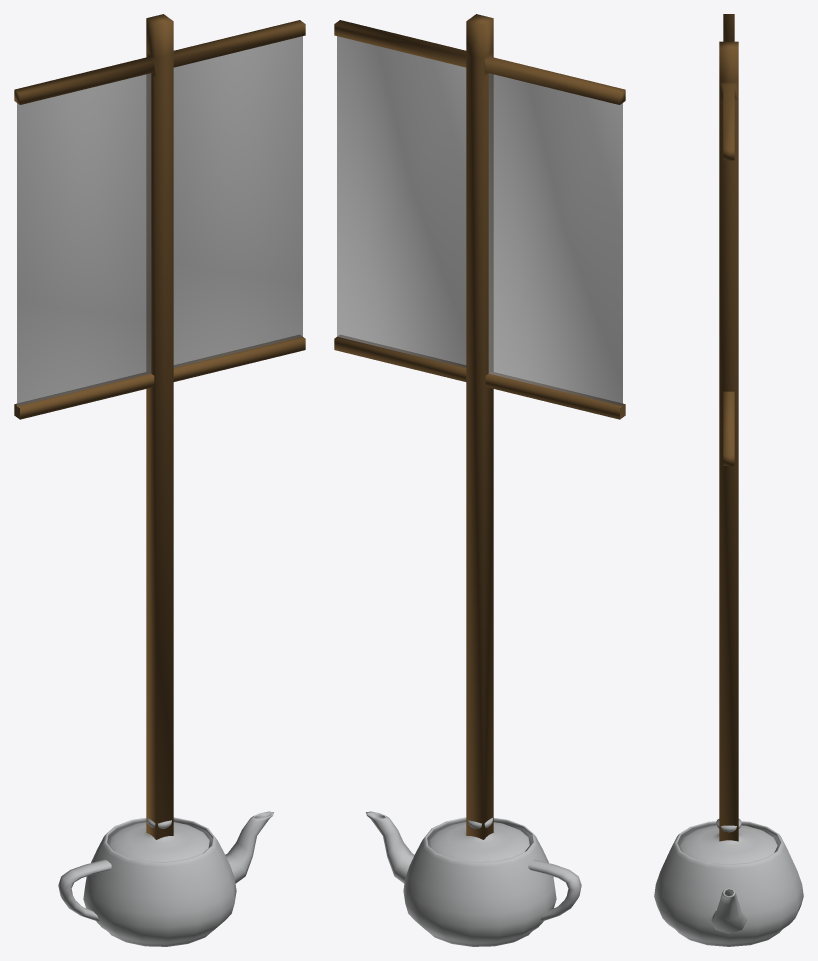
The model's file is Flag.FBX.
The picture shows the model from 3 angles, left to right: view 1: azimuth 30°, elevation 25°; view 2: azimuth 150°, elevation 25°; view 3: azimuth 270°, elevation 25°; orthographic projection. The views are drawn at different scales.
Visible parts, largest first — view 1: Box001, Teapot001; view 2: Box001, Teapot001; view 3: Box001, Teapot001.
Part boxes in pixels (x1,y1,x2,y2): Box001: (14,14,305,861); Teapot001: (58,811,273,946); Box001: (334,14,625,861); Teapot001: (366,811,581,946); Box001: (680,14,777,864); Teapot001: (654,821,803,946).
Size of the model in its own units: 82.44 by 250 by 38.47.
